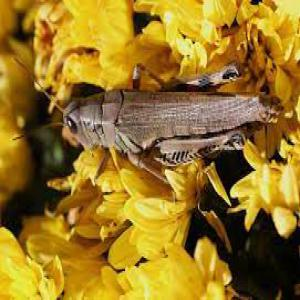locust: (46, 75, 300, 166)
